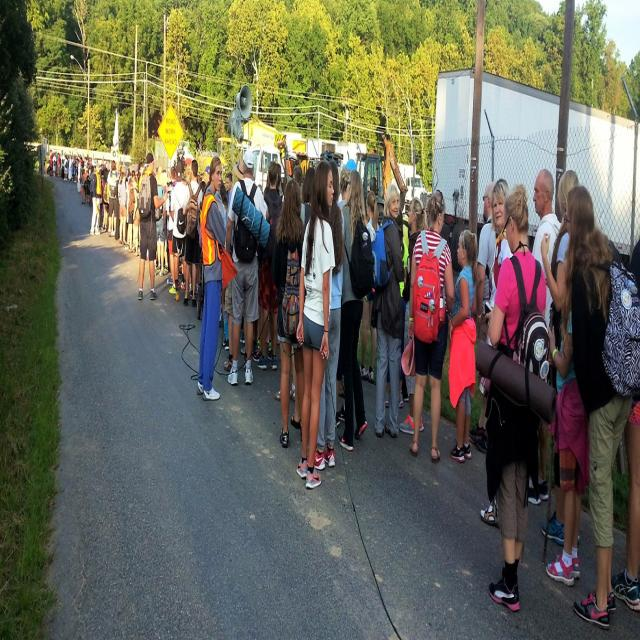body: (474, 183, 557, 615), (564, 183, 639, 633), (540, 166, 582, 548), (547, 247, 592, 587), (295, 159, 337, 491), (408, 188, 454, 464), (305, 158, 345, 472), (527, 168, 563, 506), (480, 178, 513, 530), (610, 236, 640, 608), (224, 147, 270, 389), (336, 166, 374, 452), (272, 179, 306, 449), (196, 153, 227, 401), (374, 182, 402, 441), (448, 228, 478, 464), (398, 196, 426, 436), (257, 159, 284, 371), (222, 152, 248, 372), (382, 184, 406, 410), (136, 152, 169, 302), (359, 188, 380, 382), (474, 180, 497, 345), (182, 157, 202, 309), (222, 308, 276, 364), (169, 162, 189, 302), (467, 377, 491, 454), (154, 165, 167, 276), (167, 164, 179, 284), (292, 159, 315, 209), (168, 164, 176, 294), (106, 158, 118, 238), (89, 161, 101, 238), (117, 164, 128, 246), (225, 171, 234, 260), (162, 182, 170, 274), (337, 164, 351, 210), (114, 164, 122, 242), (100, 159, 108, 235), (133, 176, 140, 256), (128, 175, 134, 253), (276, 158, 286, 199), (125, 159, 144, 178), (81, 155, 102, 169), (88, 168, 94, 208), (64, 149, 82, 159), (72, 154, 78, 183), (76, 158, 82, 184), (56, 151, 61, 178), (52, 151, 57, 178), (75, 157, 79, 187), (204, 164, 210, 184), (49, 148, 53, 177), (60, 157, 65, 180), (68, 154, 72, 182), (86, 168, 89, 204), (64, 155, 68, 182), (82, 168, 85, 202), (60, 149, 65, 166)
